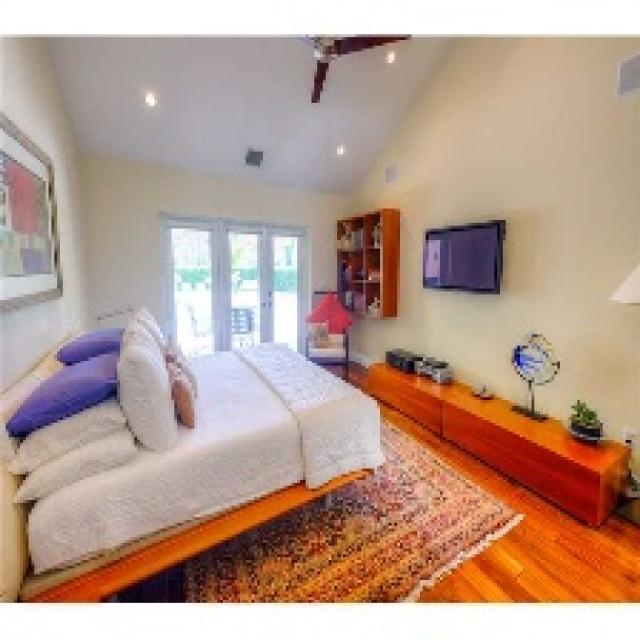Bed: (0, 326, 383, 600)
